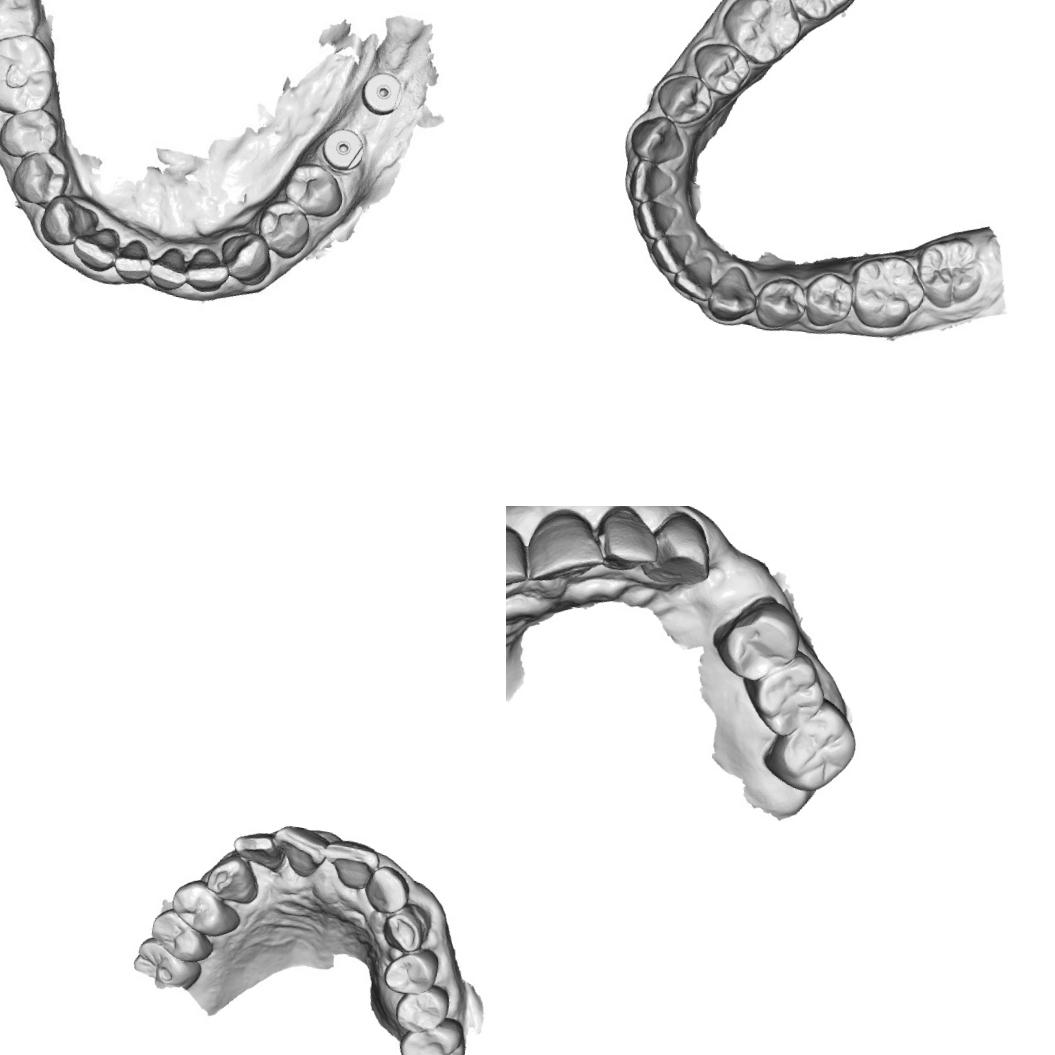canine: (642, 506, 720, 594), (36, 190, 104, 256), (704, 262, 762, 325), (216, 228, 276, 288), (628, 111, 689, 169), (202, 850, 263, 906), (380, 898, 434, 956)
implant: (356, 64, 407, 122), (319, 124, 366, 170)
incisor: (523, 506, 609, 592), (594, 506, 662, 573), (267, 822, 330, 881), (321, 837, 382, 894), (361, 862, 414, 917), (506, 516, 537, 607), (625, 156, 678, 209), (229, 826, 288, 873), (75, 222, 122, 276), (671, 252, 718, 302), (647, 228, 694, 277), (632, 198, 680, 243), (150, 239, 192, 288), (114, 234, 153, 280), (186, 245, 225, 290)
molar: (714, 590, 810, 691), (842, 249, 930, 335), (910, 230, 988, 314), (784, 706, 862, 790), (716, 0, 807, 70), (750, 653, 826, 736), (128, 934, 206, 994), (0, 32, 54, 114), (393, 1010, 470, 1055), (775, 0, 860, 26), (0, 0, 40, 45)
premolar: (166, 875, 246, 941), (146, 905, 218, 966), (282, 159, 348, 224), (687, 38, 754, 100), (652, 70, 716, 128), (392, 978, 453, 1038), (752, 273, 811, 335), (0, 105, 61, 163), (258, 198, 314, 260), (381, 942, 441, 999), (801, 269, 856, 331), (16, 150, 70, 205)
